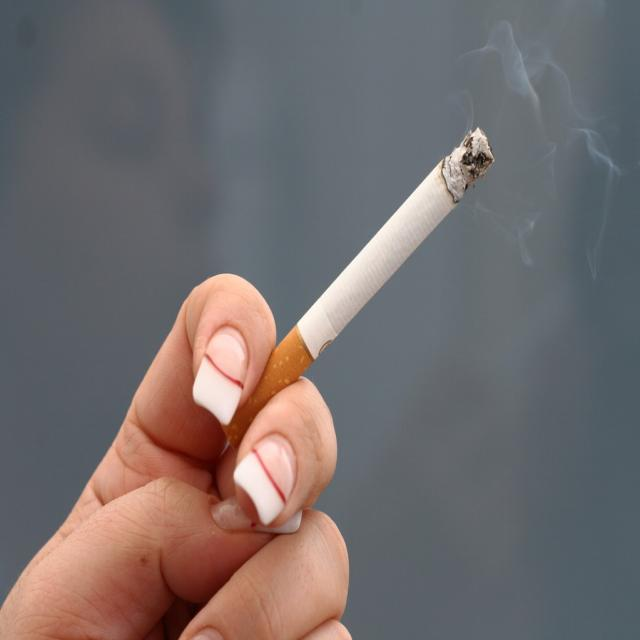smoking: (221, 124, 495, 451)
